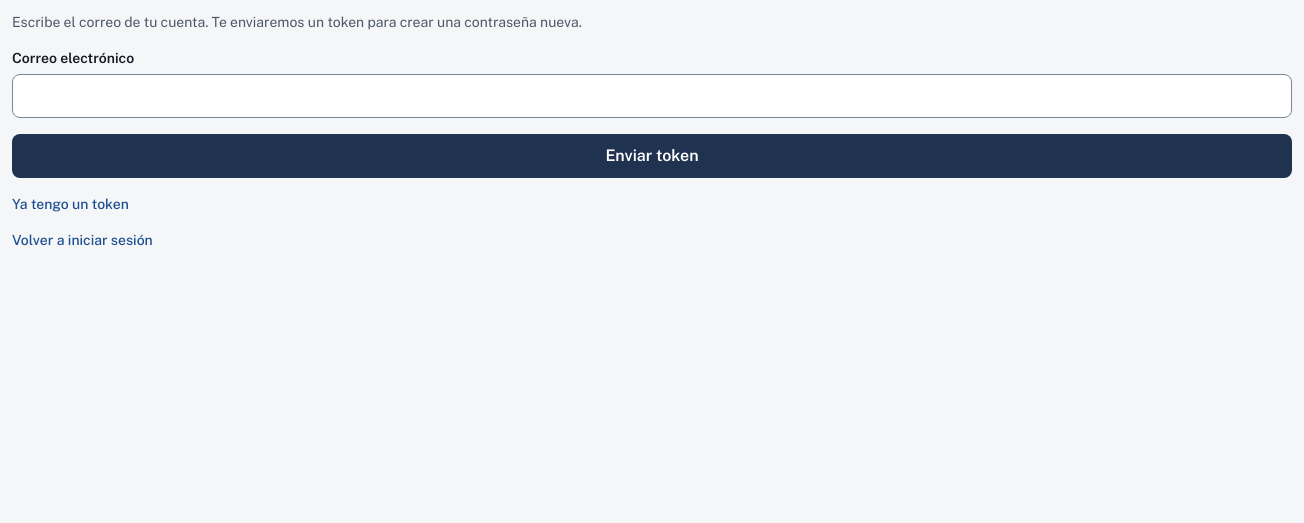
it: RecuperarPassword › pide el token y pasa al segundo paso sin confirmar que la cuenta exista
Step 1. Type " ana@correo.pe " into the field labelled "Correo electrónico" → (652, 96), box x1=12 y1=74 x2=1292 y2=118
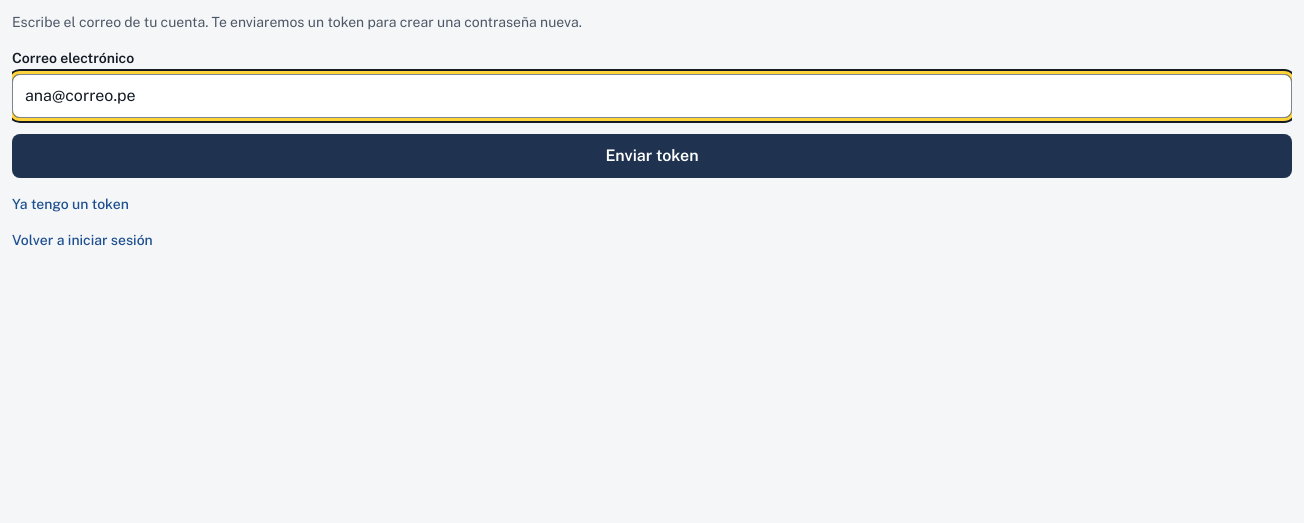
Step 2. Click the button "Enviar token" → (652, 156), box x1=12 y1=134 x2=1292 y2=178
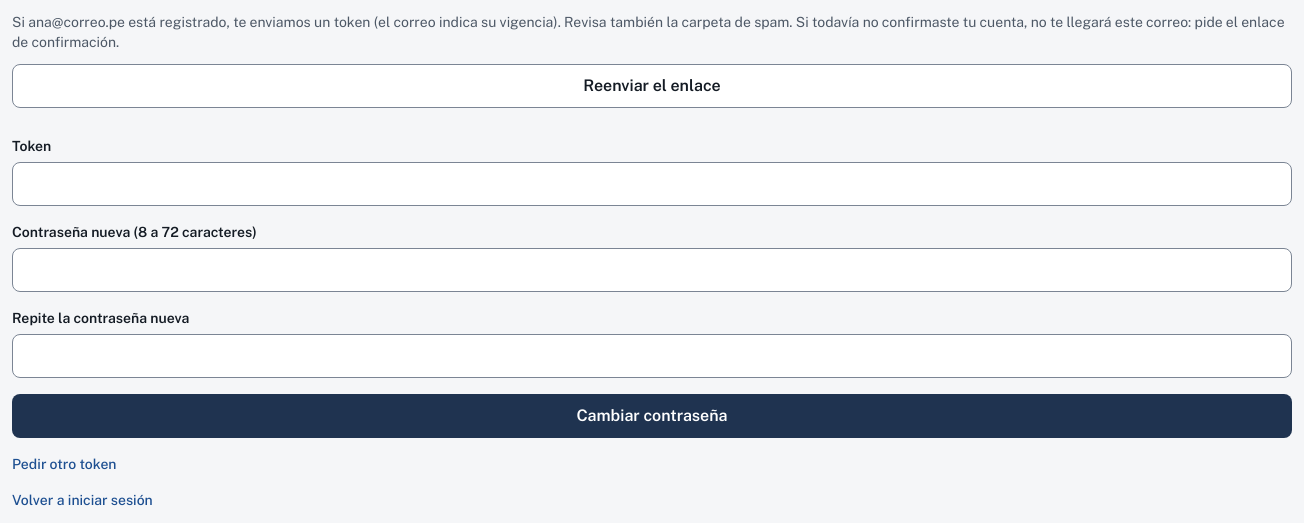
expect the text "Si ana@correo.pe está registrado" is shown: met, box x1=12 y1=14 x2=1284 y2=50
expect the field labelled "Token" is shown: met, box x1=12 y1=162 x2=1292 y2=206
